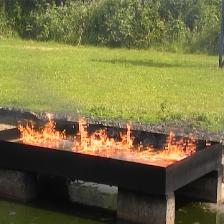fire: (72, 118, 135, 153), (139, 130, 197, 160), (17, 112, 67, 144)
